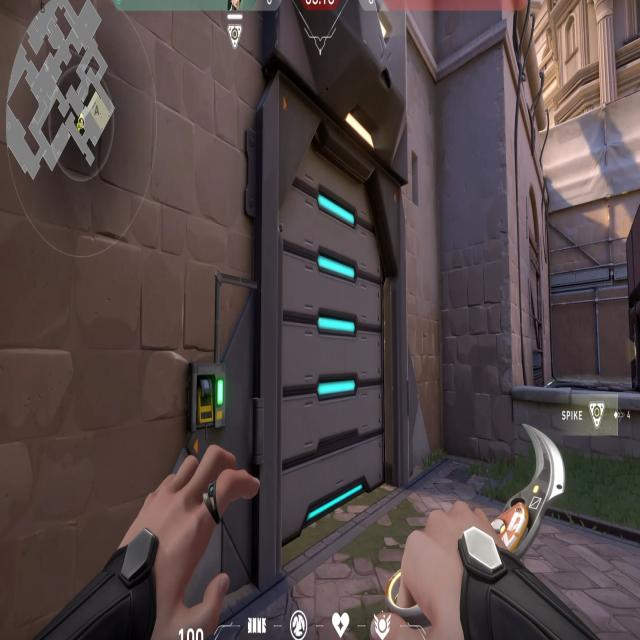A_Door: (255, 22, 424, 556)
